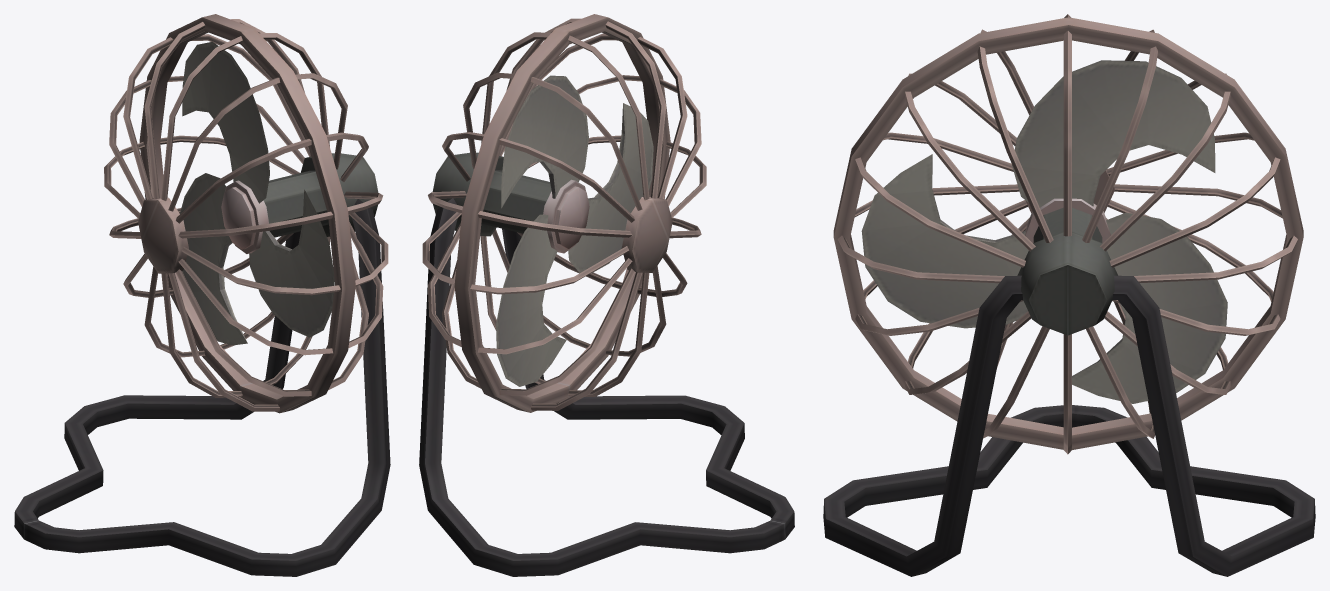
Rendered from ZhiBanShi_01_fengshan_01.FBX.
3 renders of one model, left to right at view 1: azimuth 30°, elevation 25°; view 2: azimuth 150°, elevation 25°; view 3: azimuth 270°, elevation 25°, orthographic. The views are drawn at different scales.
Parts seen in each view (by area): view 1: XiuLiChang_fengshan_01; view 2: XiuLiChang_fengshan_01; view 3: XiuLiChang_fengshan_01.
Boxes of the visible parts, x1,y1,x2,y2 form: XiuLiChang_fengshan_01: (14, 14, 390, 576); XiuLiChang_fengshan_01: (419, 14, 794, 576); XiuLiChang_fengshan_01: (823, 14, 1315, 576).
Bounding box in the file's own units: 141 × 182 × 154.
